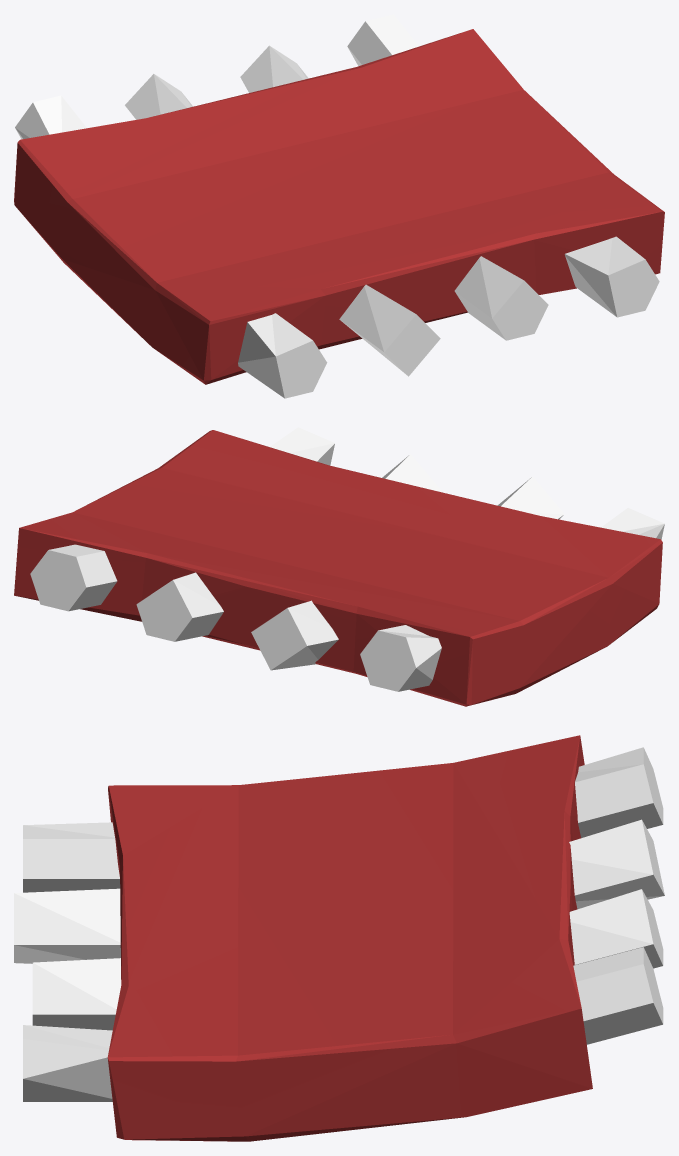
Rendered from Steak_02.fbx.
3 views of the same model, one above another, from view 1: azimuth 30°, elevation 25°; view 2: azimuth 150°, elevation 25°; view 3: azimuth 270°, elevation 25° (orthographic). The views are drawn at different scales.
Parts seen in each view (by area): view 1: Steak_02; view 2: Steak_02; view 3: Steak_02.
Part boxes in pixels (<box>): Steak_02: <box>14,14,664,398</box>; Steak_02: <box>14,427,664,706</box>; Steak_02: <box>14,735,664,1141</box>.
Bounding box in the file's own units: 21.3 × 5.29 × 21.2.
